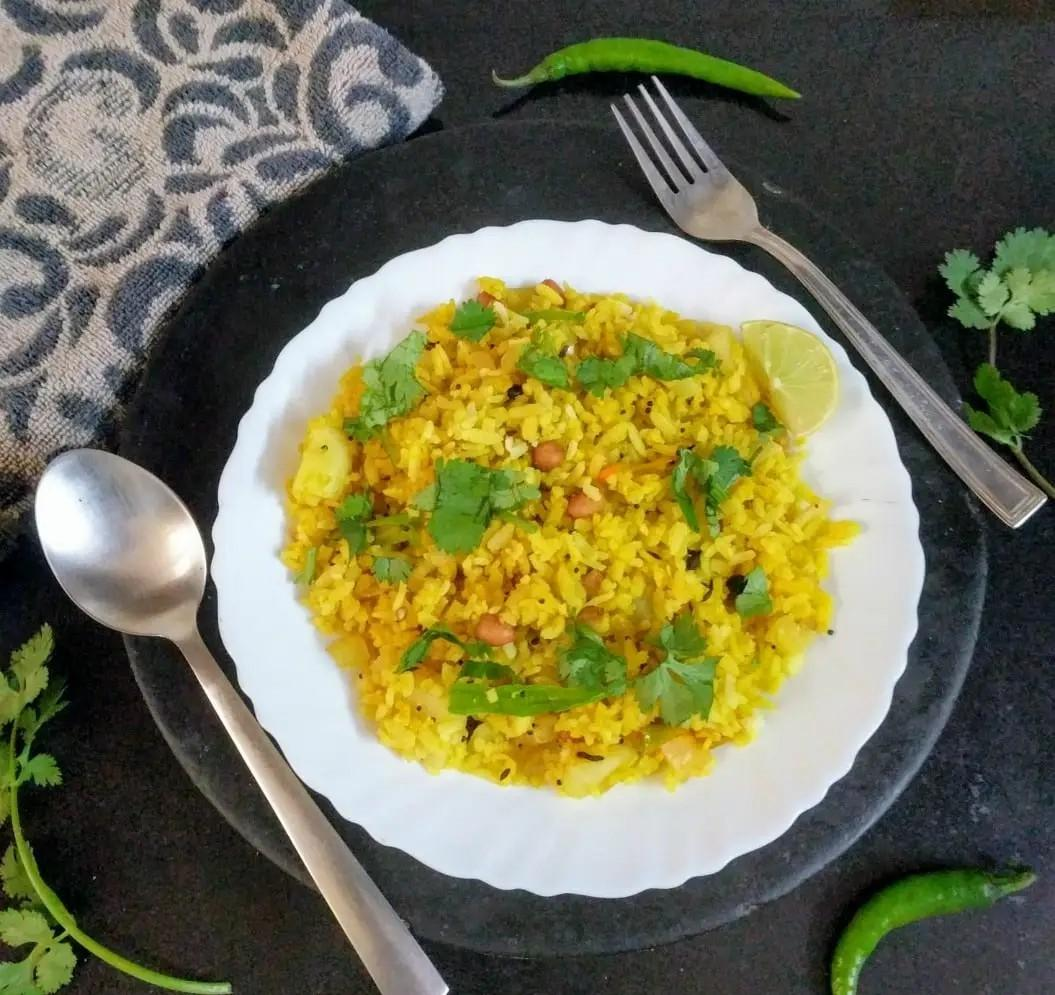Poha: (273, 272, 863, 809)
